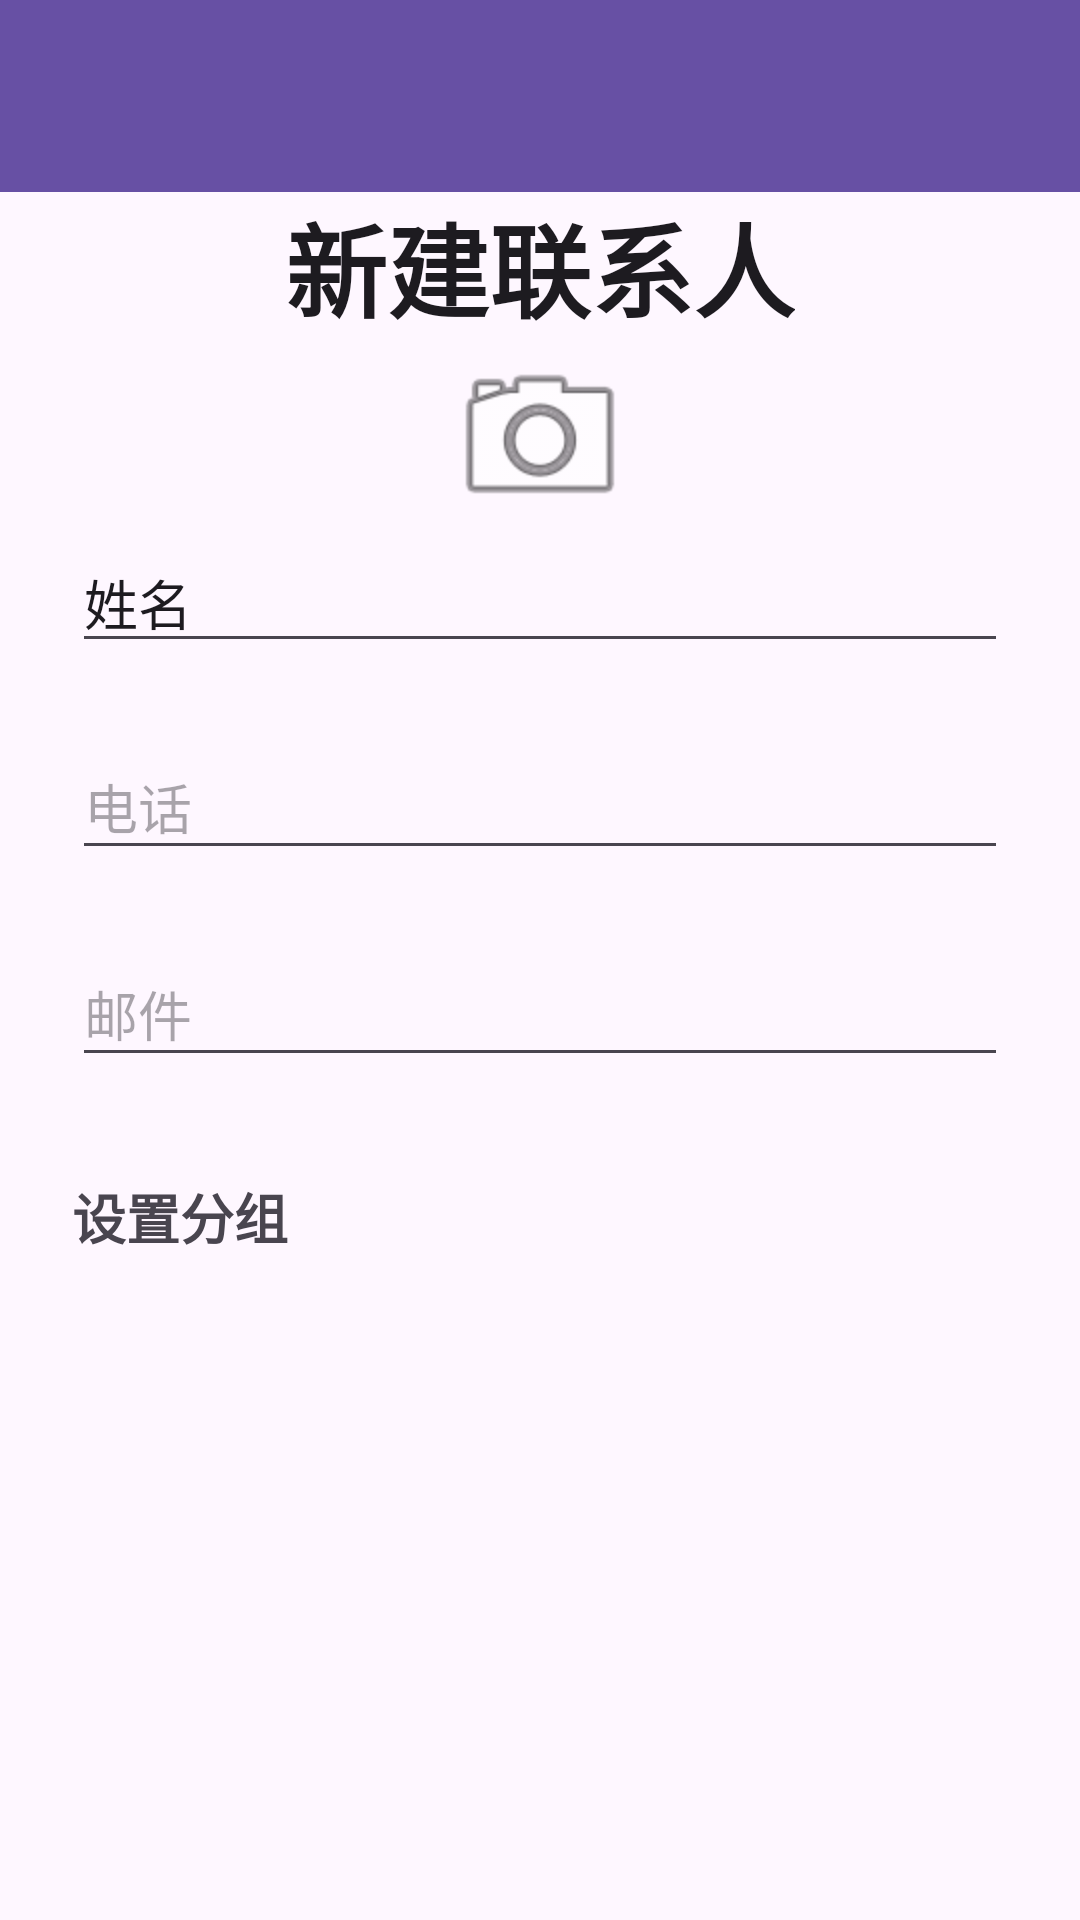

Screen size 1080×1920. Icon name, then its box in pixels as {"x1": x1, "y1": y1, "x2": x2, "y2": y2}:
camera: {"x1": 466, "y1": 375, "x2": 614, "y2": 493}
